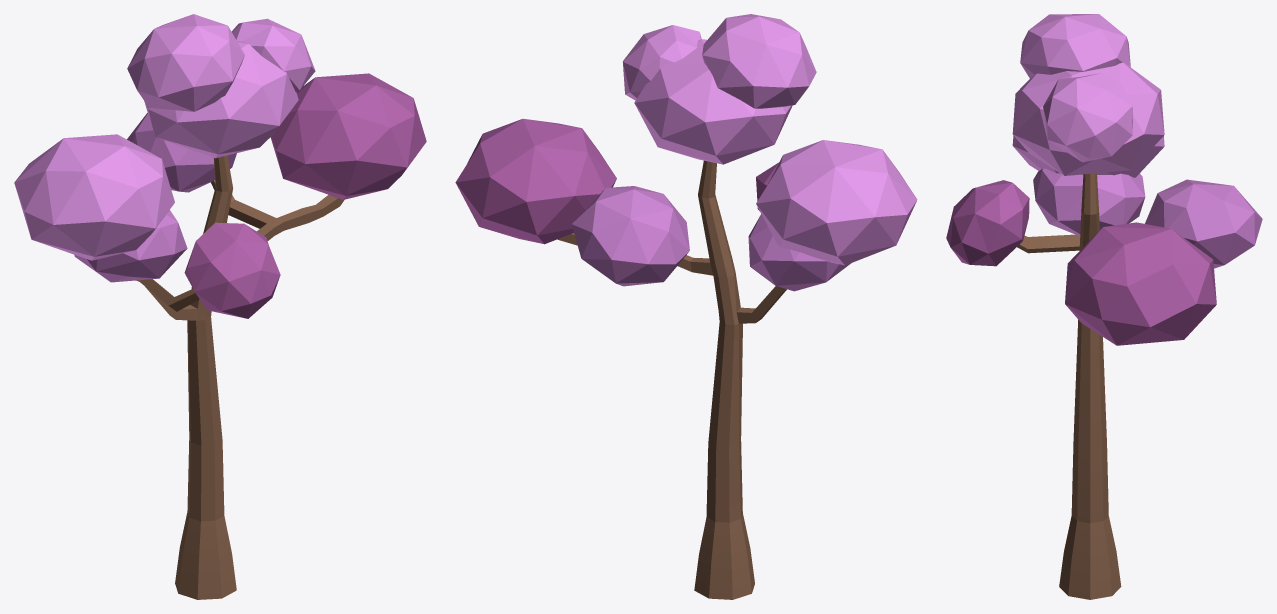
The model's file is japan_tree_1.fbx.
The picture shows the model from 3 angles, left to right: view 1: azimuth 30°, elevation 25°; view 2: azimuth 150°, elevation 25°; view 3: azimuth 270°, elevation 25°; orthographic projection. The views are drawn at different scales.
Visible parts, largest first — view 1: japan_tree_1; view 2: japan_tree_1; view 3: japan_tree_1.
Part boxes in pixels (x1,y1,x2,y2): japan_tree_1: (14, 14, 426, 599); japan_tree_1: (455, 14, 917, 599); japan_tree_1: (946, 14, 1262, 599).
Bounding box in the file's own units: 560 × 732 × 375.
